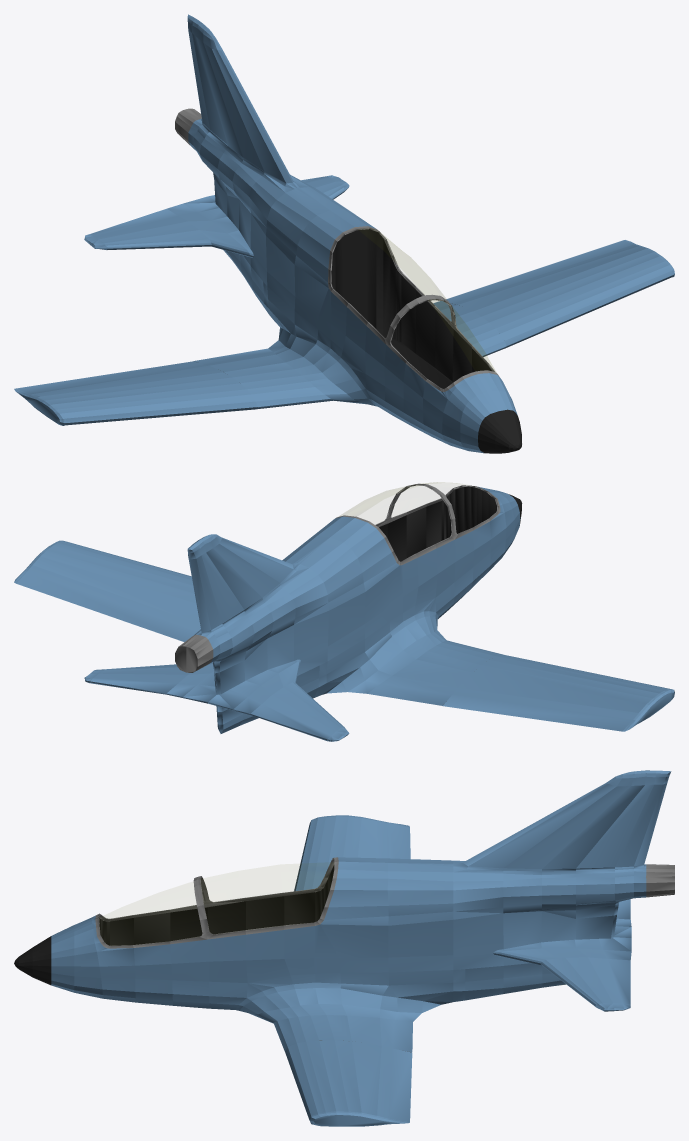
File: aircraft_14.glb
3 renders of one model, top to bottom at view 1: azimuth 30°, elevation 25°; view 2: azimuth 150°, elevation 25°; view 3: azimuth 270°, elevation 25°, orthographic.
Parts seen in each view (by area): view 1: fuselage, left wing, right wing, tail, canopy; view 2: fuselage, right wing, left wing, tail, canopy; view 3: fuselage, left wing, tail, right wing.
Part boxes in pixels (box(x1,y1,x2,y2)): fuselage: box(175, 14, 521, 453); left wing: box(446, 240, 674, 348); right wing: box(14, 361, 257, 425); tail: box(84, 175, 349, 257); canopy: box(387, 239, 495, 371); fuselage: box(175, 483, 522, 733); right wing: box(443, 654, 674, 731); left wing: box(14, 540, 200, 641); tail: box(84, 659, 349, 741); canopy: box(340, 482, 437, 515); fuselage: box(14, 770, 674, 1052); left wing: box(285, 1040, 412, 1126); tail: box(493, 899, 631, 1011); right wing: box(294, 815, 410, 891).
Size of the model in its own units: 7.51 by 2.73 by 7.01.
